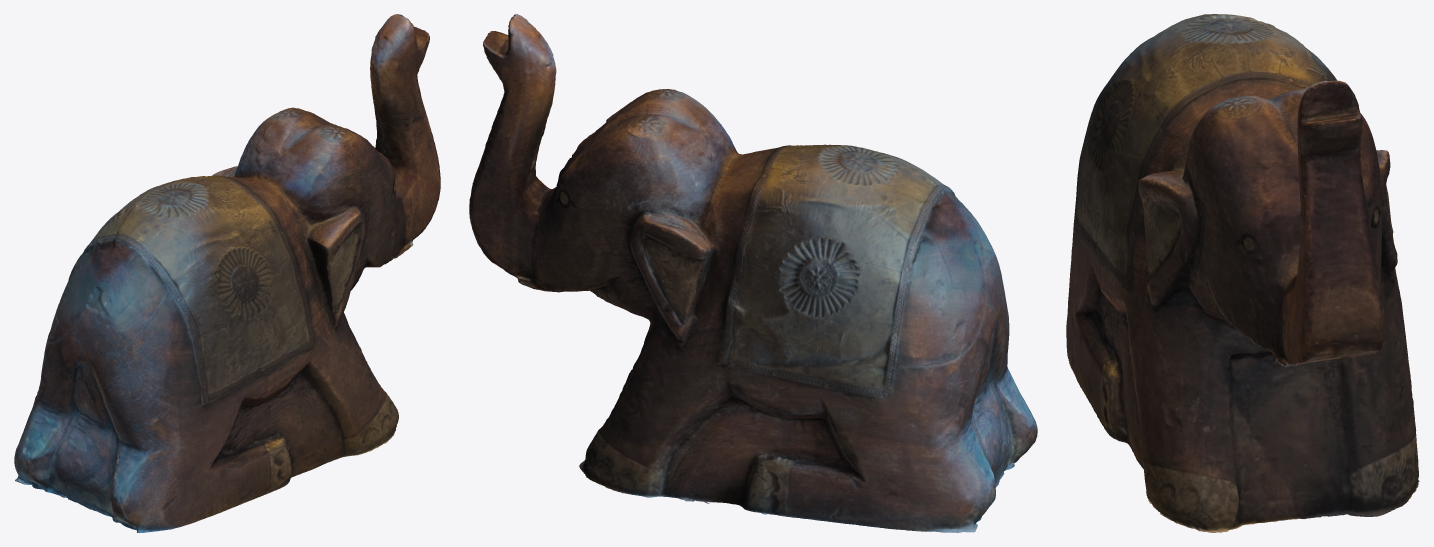
The model's file is Dumbo.glb.
The picture shows the model from 3 angles, left to right: view 1: azimuth 30°, elevation 25°; view 2: azimuth 150°, elevation 25°; view 3: azimuth 270°, elevation 25°; orthographic projection. The views are drawn at different scales.
Visible parts, largest first — view 1: Mesh_0_Part_0; view 2: Mesh_0_Part_0; view 3: Mesh_0_Part_0.
Part boxes in pixels (x1=…): Mesh_0_Part_0: x1=14, y1=14, x2=440, y2=532; Mesh_0_Part_0: x1=469, y1=14, x2=1037, y2=532; Mesh_0_Part_0: x1=1066, y1=14, x2=1419, y2=532.
Size of the model in its own units: 0.2417 by 0.1931 by 0.1276.
1 material, 1 textured.
